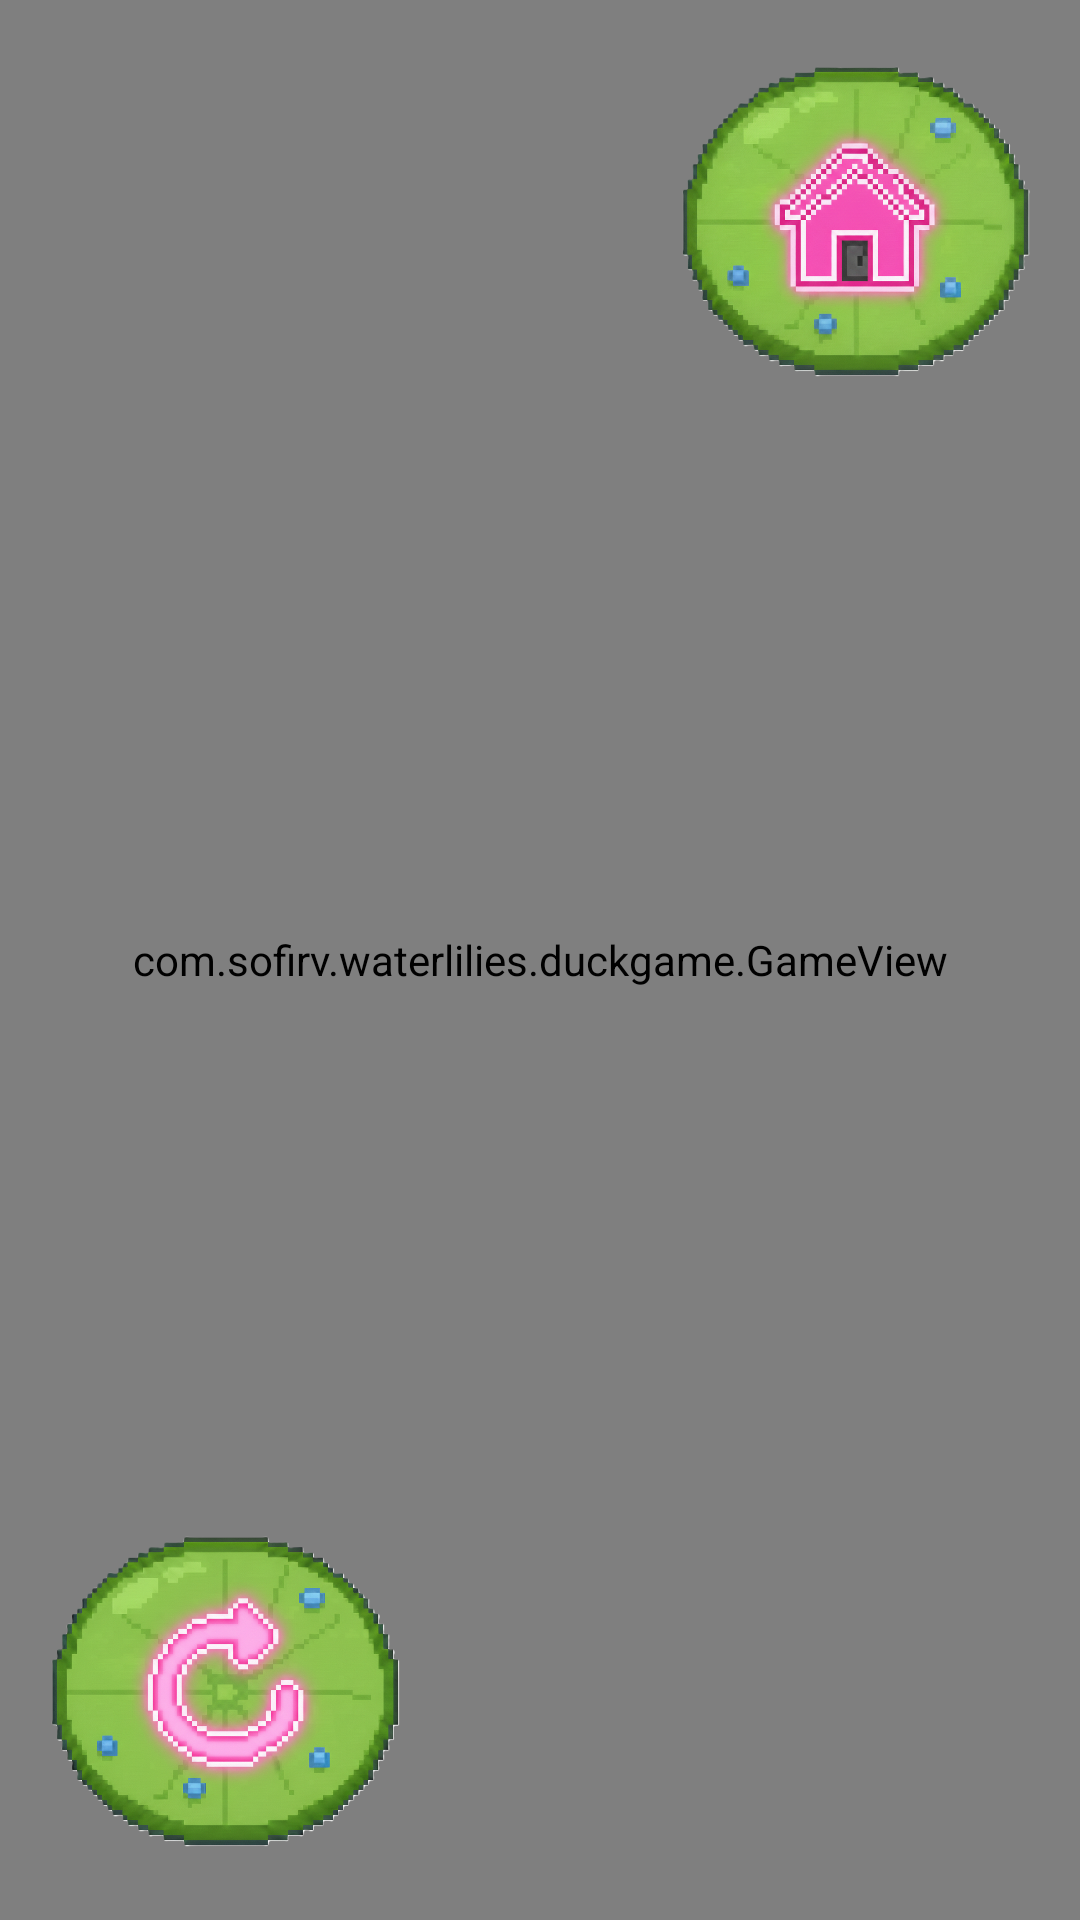

Named icons in this screenshot (1080×1920) and their centers, (x,y):
duck home: (856,221)
duck restart: (225,1691)
